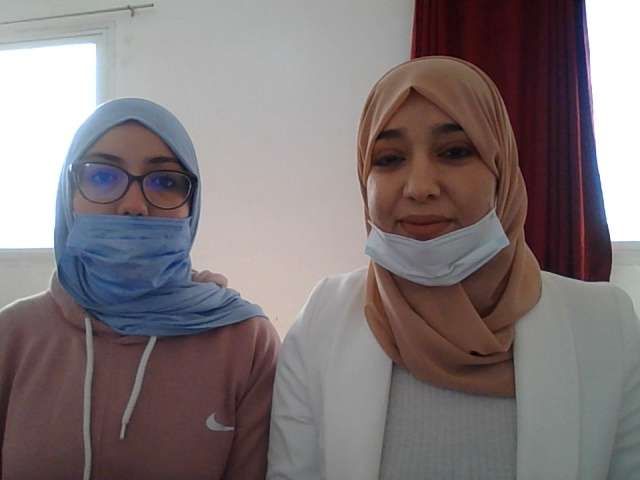mask_weared_incorrect: (326, 72, 557, 311), (48, 108, 215, 328)
